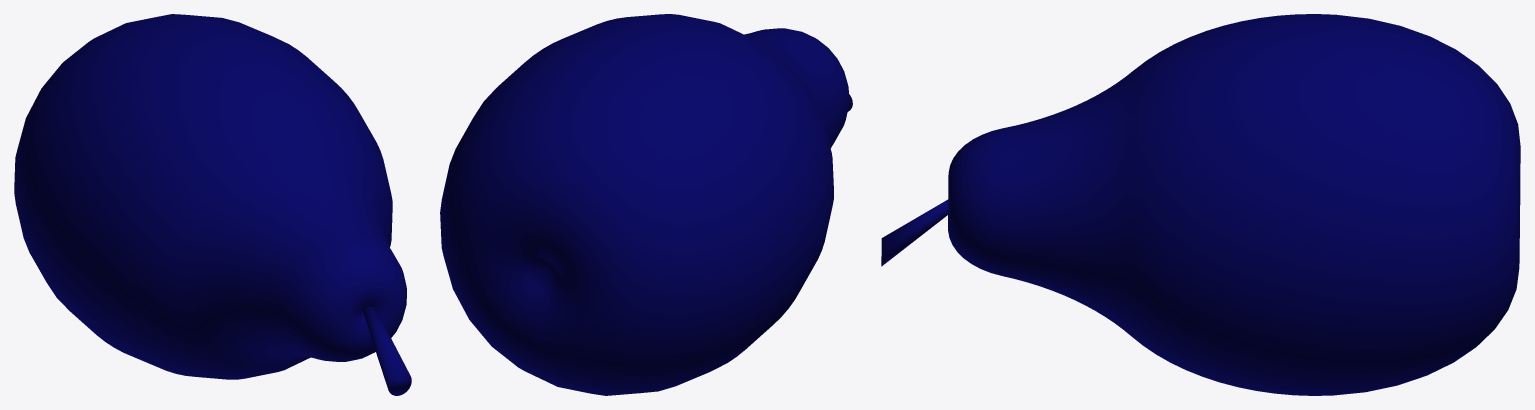
The model's file is pear1_4.dae.
The picture shows the model from 3 angles, left to right: view 1: azimuth 30°, elevation 25°; view 2: azimuth 150°, elevation 25°; view 3: azimuth 270°, elevation 25°; orthographic projection. The views are drawn at different scales.
Visible parts, largest first — view 1: scrap1; view 2: scrap1; view 3: scrap1.
Part boxes in pixels (left/top/right/bottom): scrap1: left=14, top=14, right=411, bottom=395; scrap1: left=440, top=14, right=852, bottom=395; scrap1: left=881, top=14, right=1520, bottom=395.
Bounding box in the file's own units: 0.045 × 0.0753 × 0.045.
